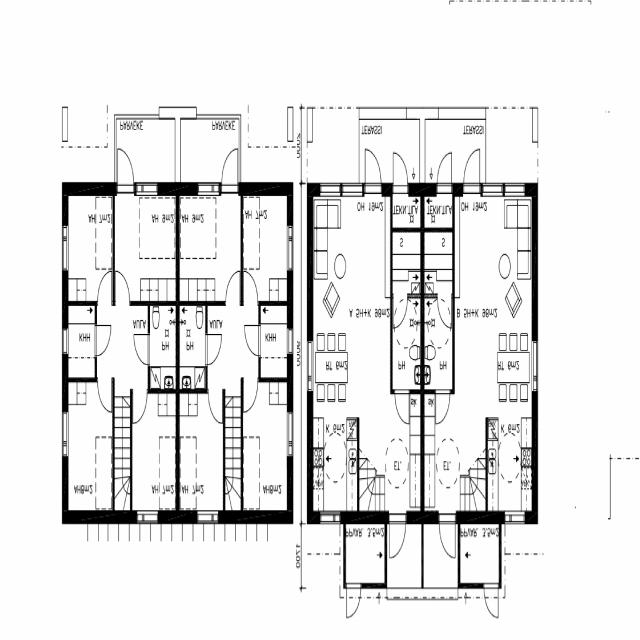door: (365, 149, 381, 197), (464, 149, 480, 197), (439, 511, 455, 559), (390, 511, 406, 559), (117, 148, 133, 196), (222, 148, 238, 196), (393, 153, 408, 197), (437, 152, 452, 196), (346, 584, 361, 620), (225, 270, 240, 306), (243, 378, 258, 413), (393, 294, 408, 328), (244, 326, 261, 356), (133, 335, 150, 365), (115, 271, 129, 306), (244, 271, 258, 306), (133, 389, 147, 424), (206, 335, 222, 365), (94, 326, 110, 356), (484, 584, 498, 618), (395, 390, 409, 424), (436, 390, 450, 424), (438, 294, 452, 328), (208, 389, 222, 423), (98, 272, 111, 306), (98, 378, 111, 412)
